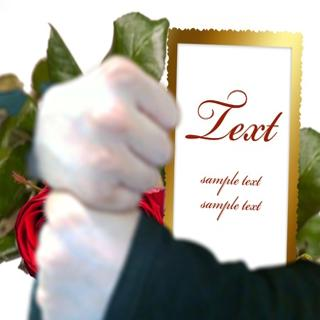CAREFUL: (23, 49, 184, 320)
